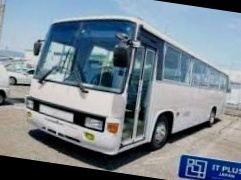bus: (20, 4, 238, 175)
